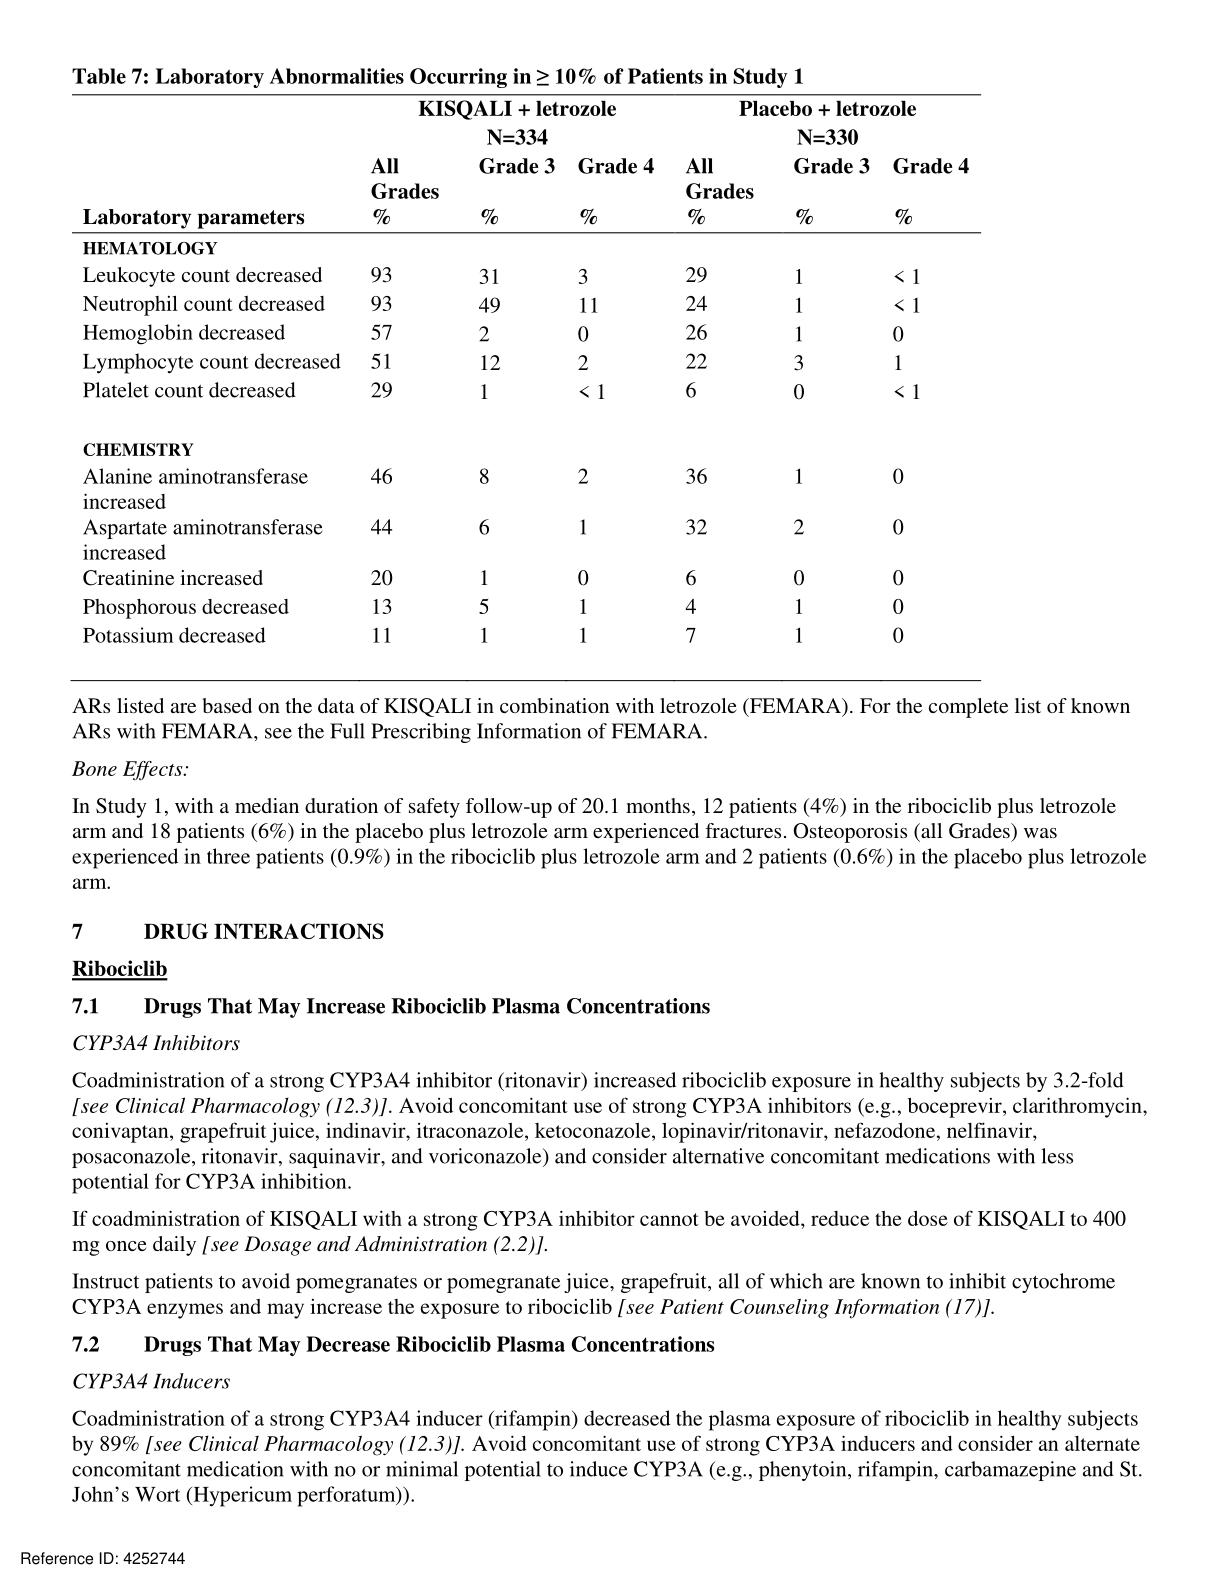partial_lined_merged_cells: (69, 90, 978, 683)
